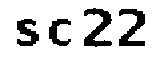2: (115, 3, 150, 51), (78, 3, 113, 49)
c: (44, 16, 75, 48)
s: (12, 17, 39, 51)
